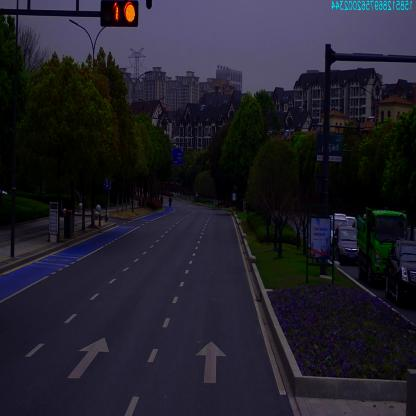traffic-light: (102, 1, 138, 25)
